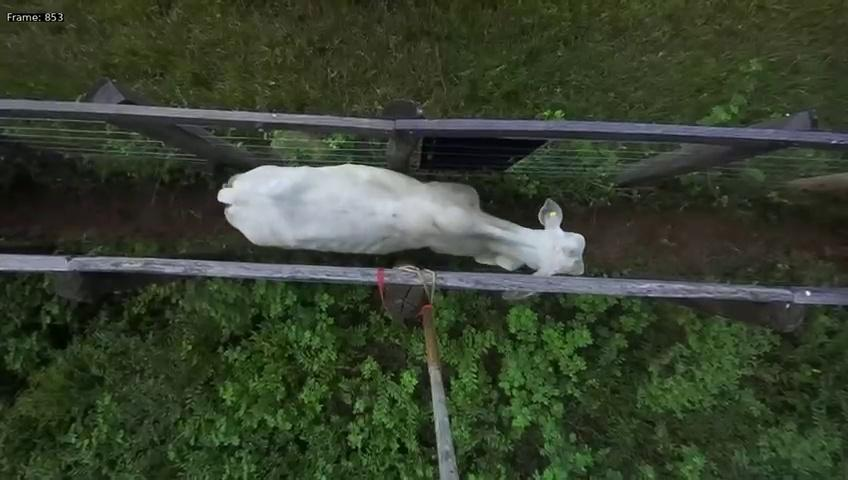cattle: (217, 155, 588, 275)
